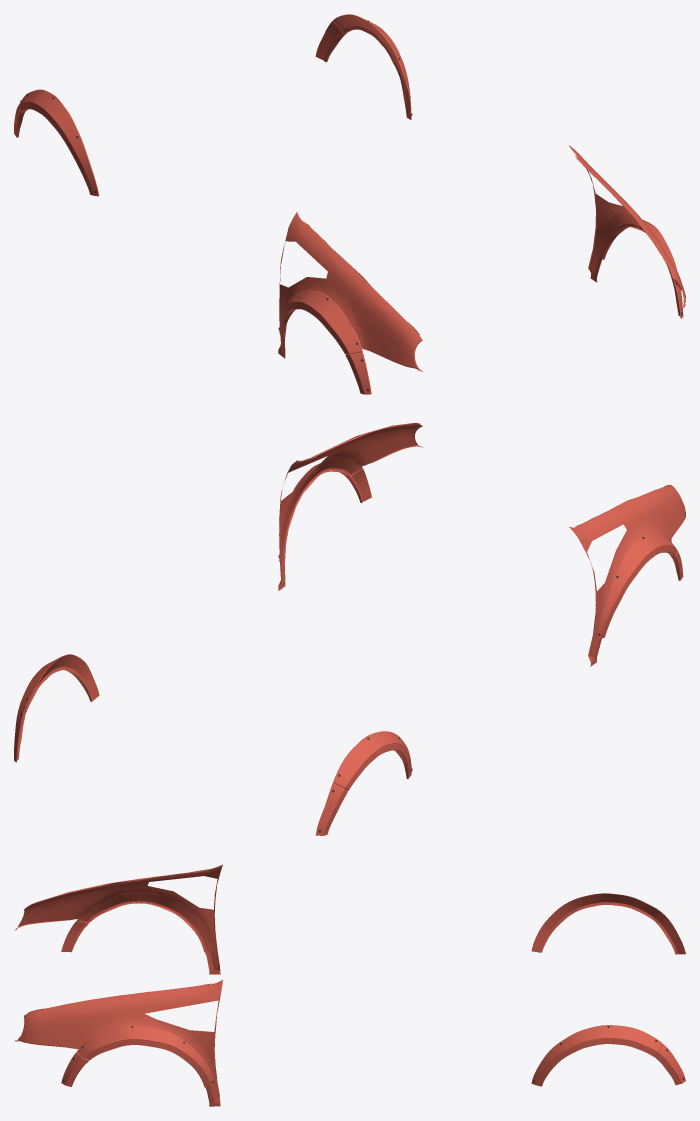
The model's file is wendtStrom_fenders_overMild.glb.
3 views of the same model, one above another, from view 1: azimuth 30°, elevation 25°; view 2: azimuth 150°, elevation 25°; view 3: azimuth 270°, elevation 25° (orthographic). The views are drawn at different scales.
Visible parts, largest first — view 1: fenders_overMild; view 2: fenders_overMild; view 3: fenders_overMild.
Part boxes in pixels (box(x1,y1,x2,y2)): fenders_overMild: box(14, 14, 685, 394); fenders_overMild: box(14, 423, 685, 835); fenders_overMild: box(14, 864, 685, 1106).
Size of the model in its own units: 1.83 by 0.7003 by 3.6.
